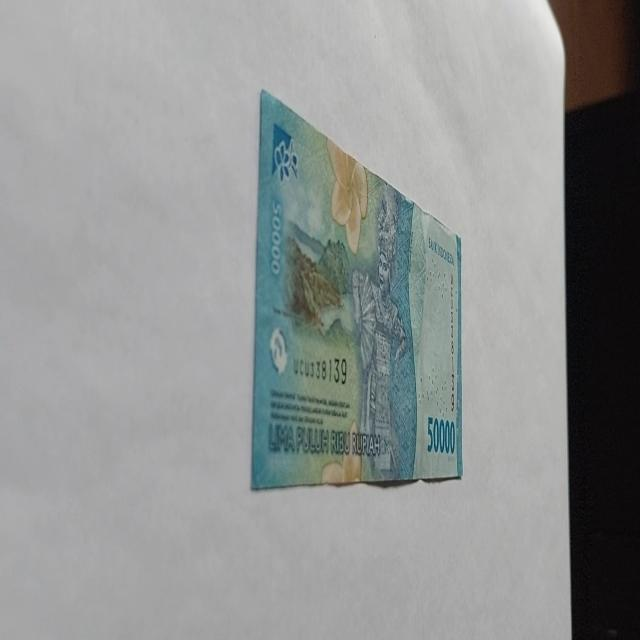lima puluh ribu rupiah: (250, 87, 463, 491)
